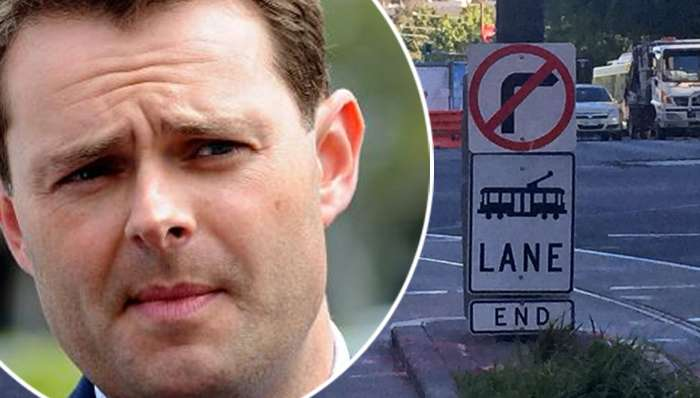No_right_turn: (470, 45, 574, 150)
